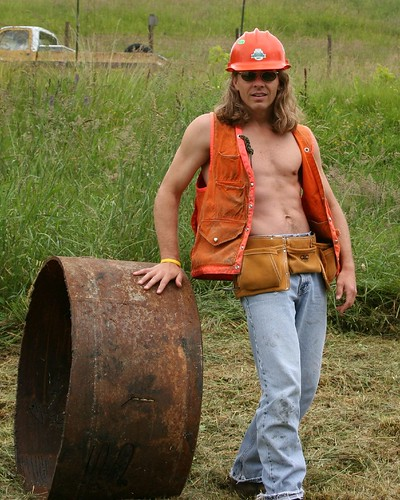person hardhat: (224, 27, 292, 111)
